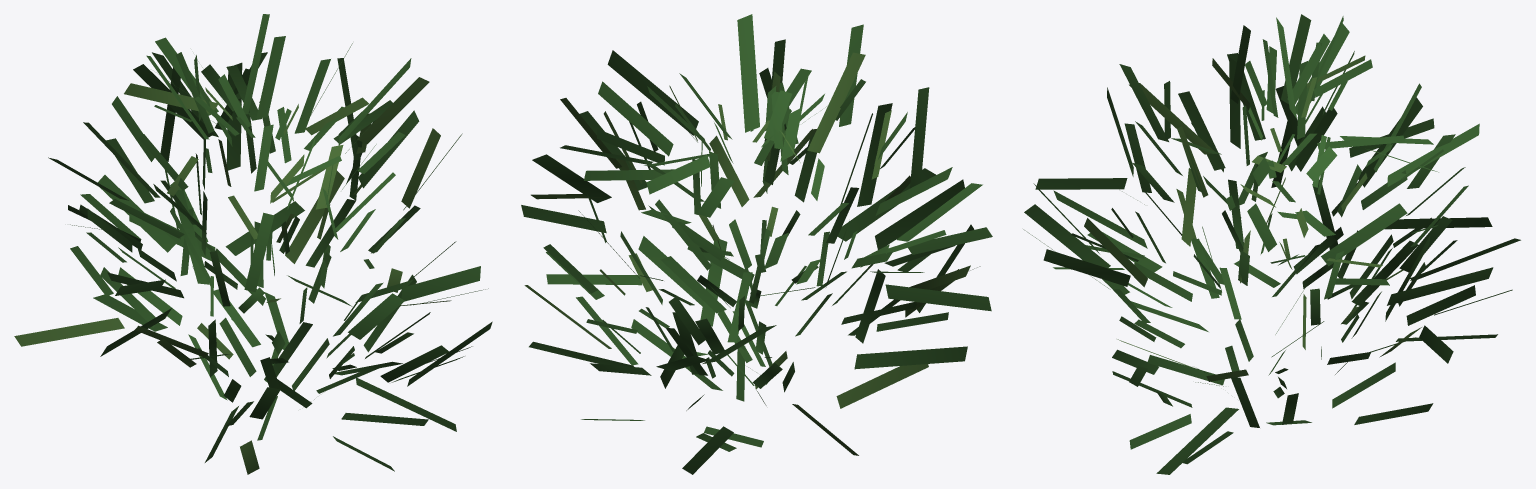
File: arbusto_redondo_1_muito_longe.glb
3 renders of one model, left to right at view 1: azimuth 30°, elevation 25°; view 2: azimuth 150°, elevation 25°; view 3: azimuth 270°, elevation 25°, orthographic. The views are drawn at different scales.
Visible parts, largest first — view 1: arbusto_redondo_1_muito_longe; view 2: arbusto_redondo_1_muito_longe; view 3: arbusto_redondo_1_muito_longe.
Boxes of the visible parts, x1,y1,x2,y2 form: arbusto_redondo_1_muito_longe: (14,14,492,474); arbusto_redondo_1_muito_longe: (521,14,992,474); arbusto_redondo_1_muito_longe: (1023,14,1520,474).
Bounding box in the file's own units: 0.6905 × 0.6726 × 0.7399.
